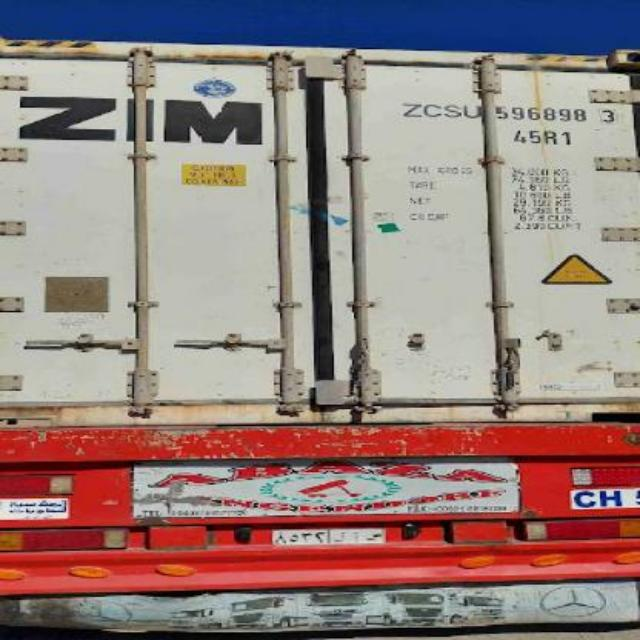3: (588, 107, 618, 125)
5: (490, 97, 508, 123)
6: (524, 98, 540, 124)
8: (574, 102, 590, 126), (544, 102, 556, 122)
9: (510, 100, 526, 122), (560, 101, 572, 127)
C: (418, 95, 442, 118)
S: (442, 100, 460, 122)
U: (460, 94, 480, 120)
Z: (394, 96, 420, 120)
